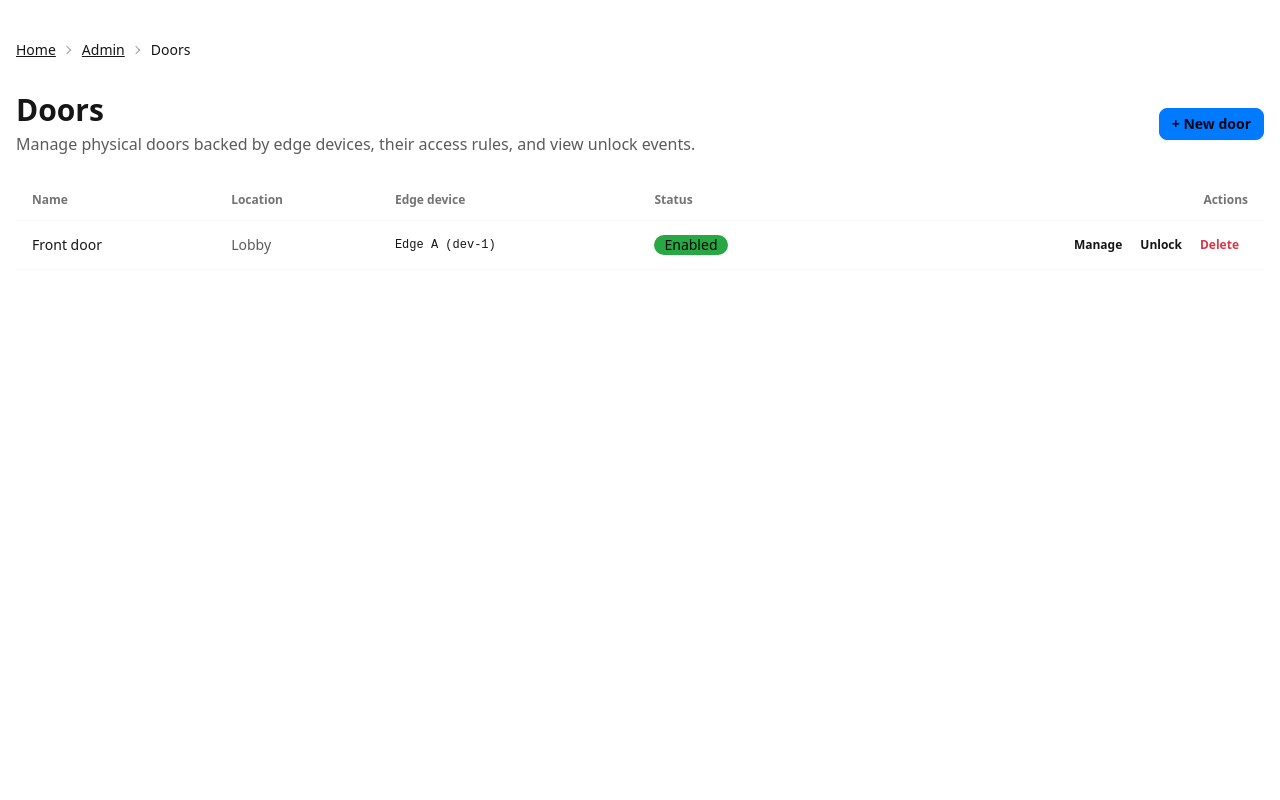
Test case: the door list › marks a special place with a star, and an unset side with a dash, in the detail
Click the button "Manage": [1098, 245] box [1065,233,1131,257]
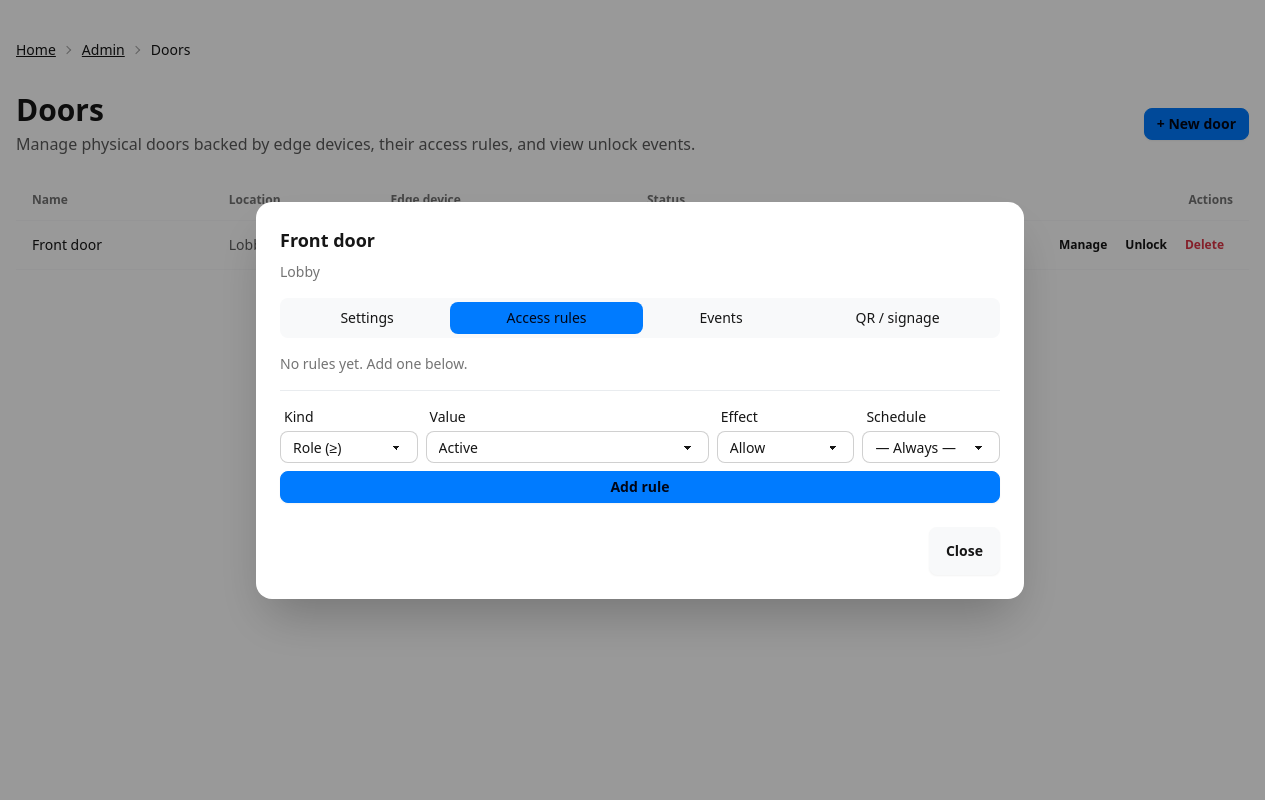
Click the tab "Settings": [367, 317] box [340,308,394,326]
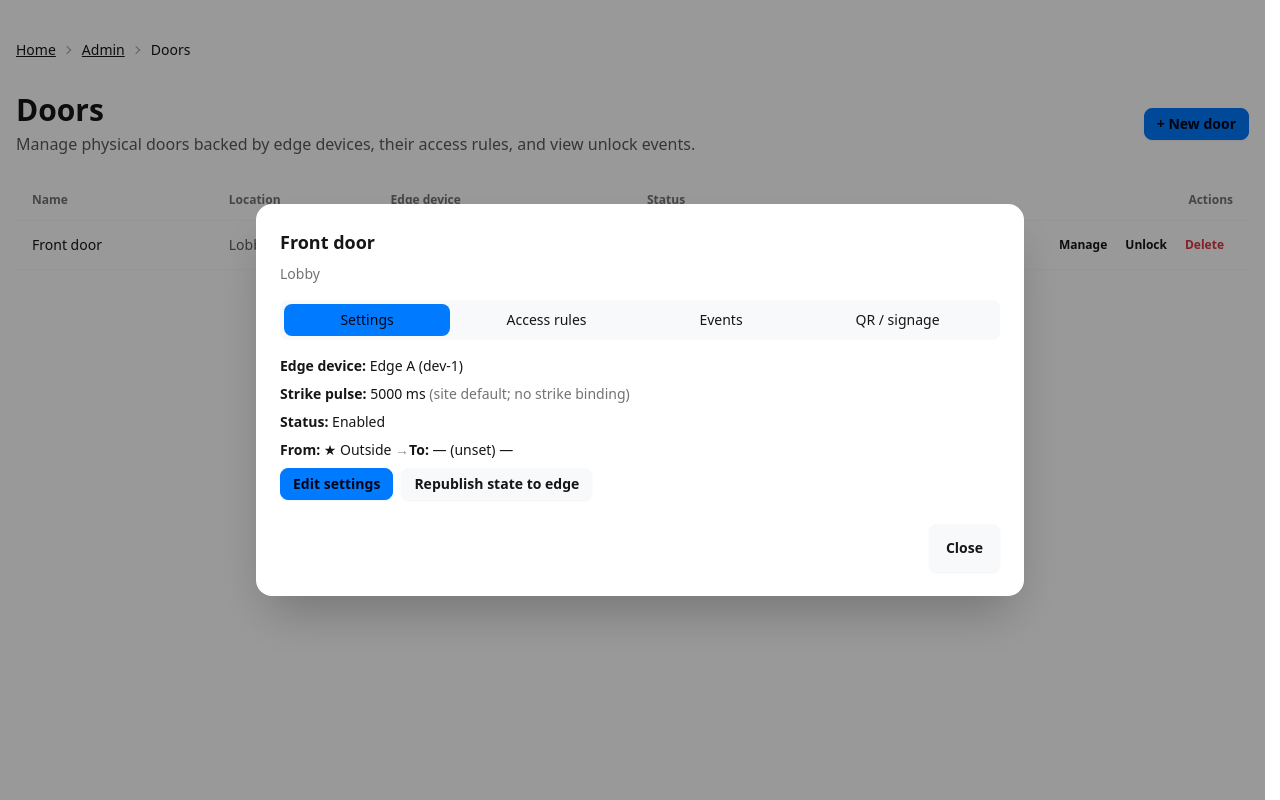
Result: the text "★ Outside" is shown at [320,440,395,459]
Result: the text "(unset)" is shown at [429,440,513,459]
